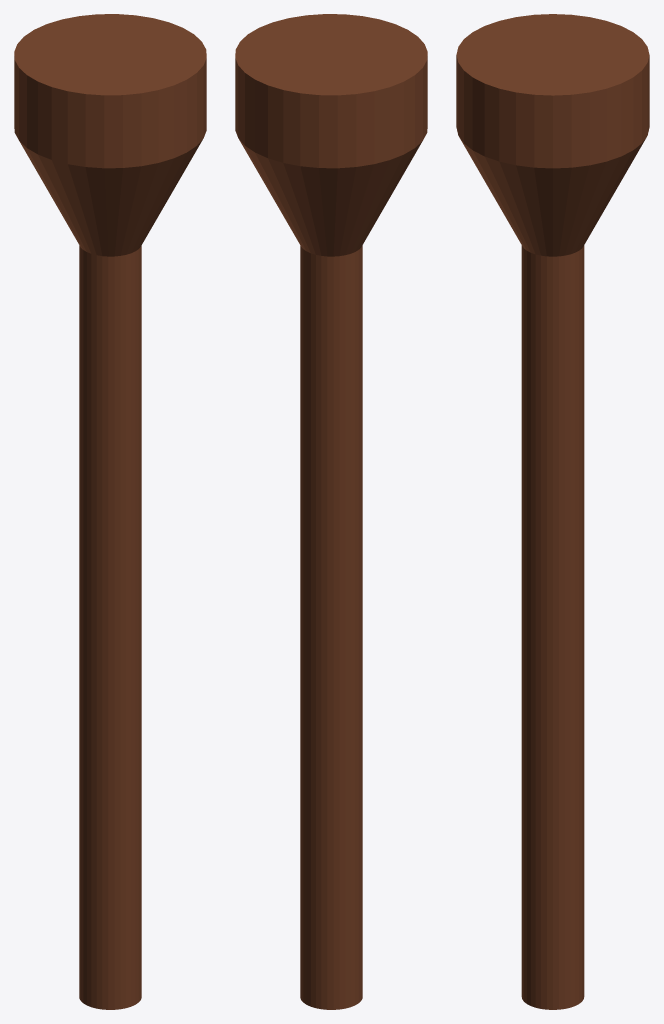
The model's file is Torch.fbx.
The picture shows the model from 3 angles, left to right: view 1: azimuth 30°, elevation 25°; view 2: azimuth 150°, elevation 25°; view 3: azimuth 270°, elevation 25°; orthographic projection.
Parts seen in each view (by area): view 1: Cylinder; view 2: Cylinder; view 3: Cylinder.
Part boxes in pixels (x1,y1,x2,y2): Cylinder: [14, 14, 206, 1009]; Cylinder: [235, 14, 427, 1009]; Cylinder: [456, 14, 649, 1009].
Size of the model in its own units: 41.73 by 225 by 41.73.
